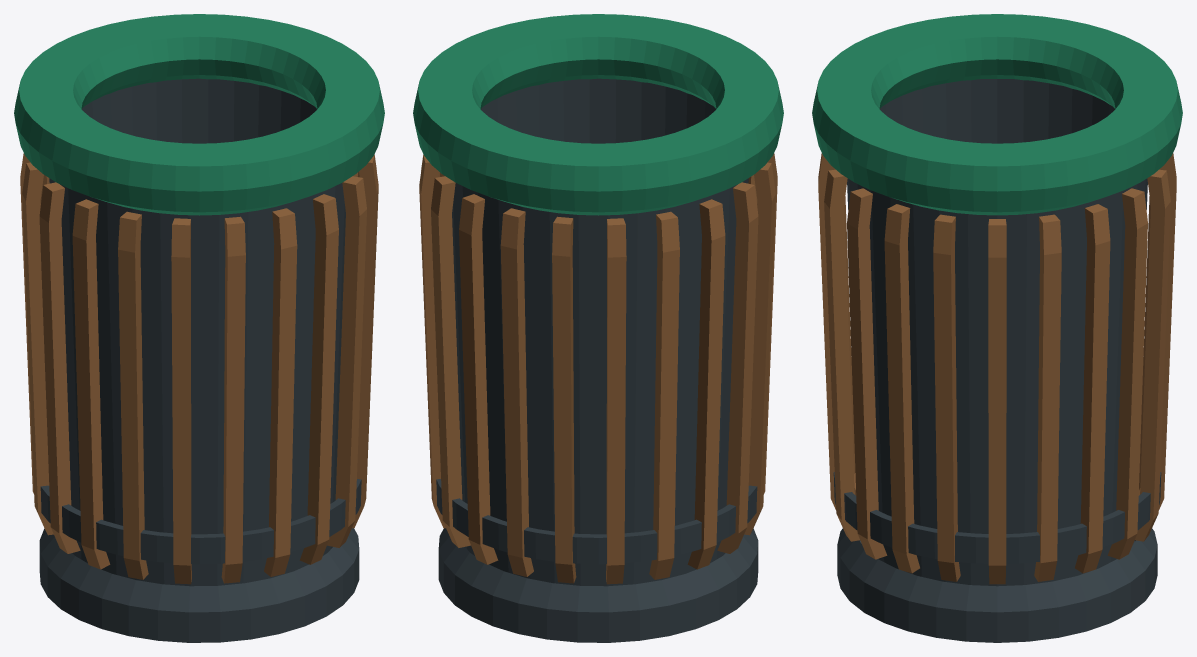
Rendered from recycling_bin_01.glb.
3 renders of one model, left to right at view 1: azimuth 30°, elevation 25°; view 2: azimuth 150°, elevation 25°; view 3: azimuth 270°, elevation 25°, orthographic.
Visible parts, largest first — view 1: Open inner liner; view 2: Open inner liner; view 3: Open inner liner.
Boxes of the visible parts, bbox=[...] form: Open inner liner: bbox=[14, 14, 384, 642]; Open inner liner: bbox=[413, 14, 783, 642]; Open inner liner: bbox=[812, 14, 1182, 642].
Size of the model in its own units: 0.44 by 0.65 by 0.44.
